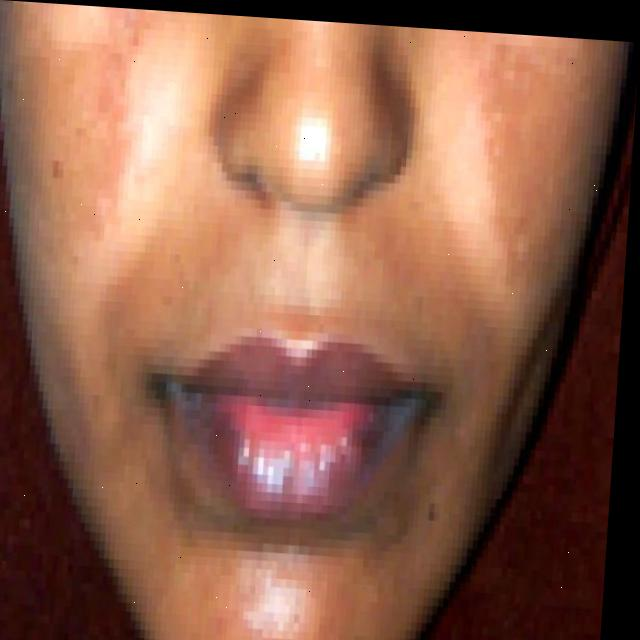Melasma: (453, 59, 581, 288), (0, 1, 134, 191)
